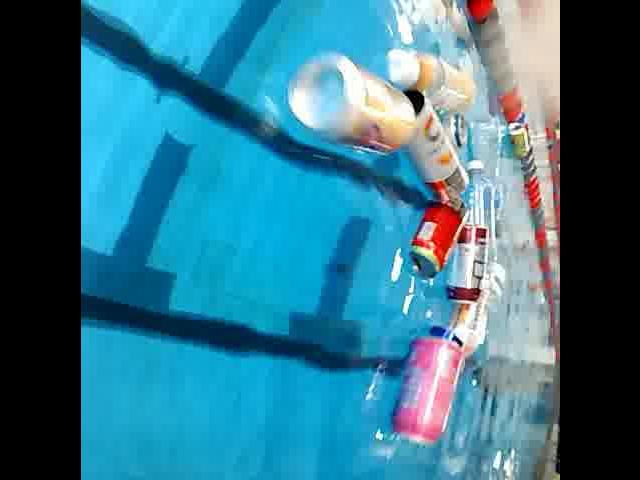Bottle: (387, 44, 476, 110), (448, 260, 510, 350), (470, 161, 506, 263)
Can: (268, 44, 421, 158), (382, 339, 469, 447), (406, 88, 466, 205), (402, 200, 470, 276), (438, 226, 494, 302), (495, 110, 531, 162), (440, 112, 472, 152)
